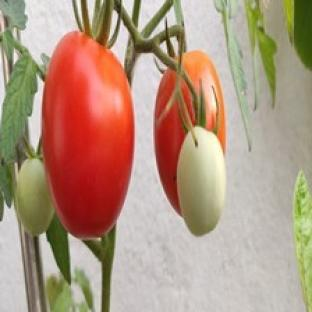Tomato: (42, 33, 133, 238), (177, 126, 225, 235), (155, 70, 185, 214), (16, 158, 54, 235)
